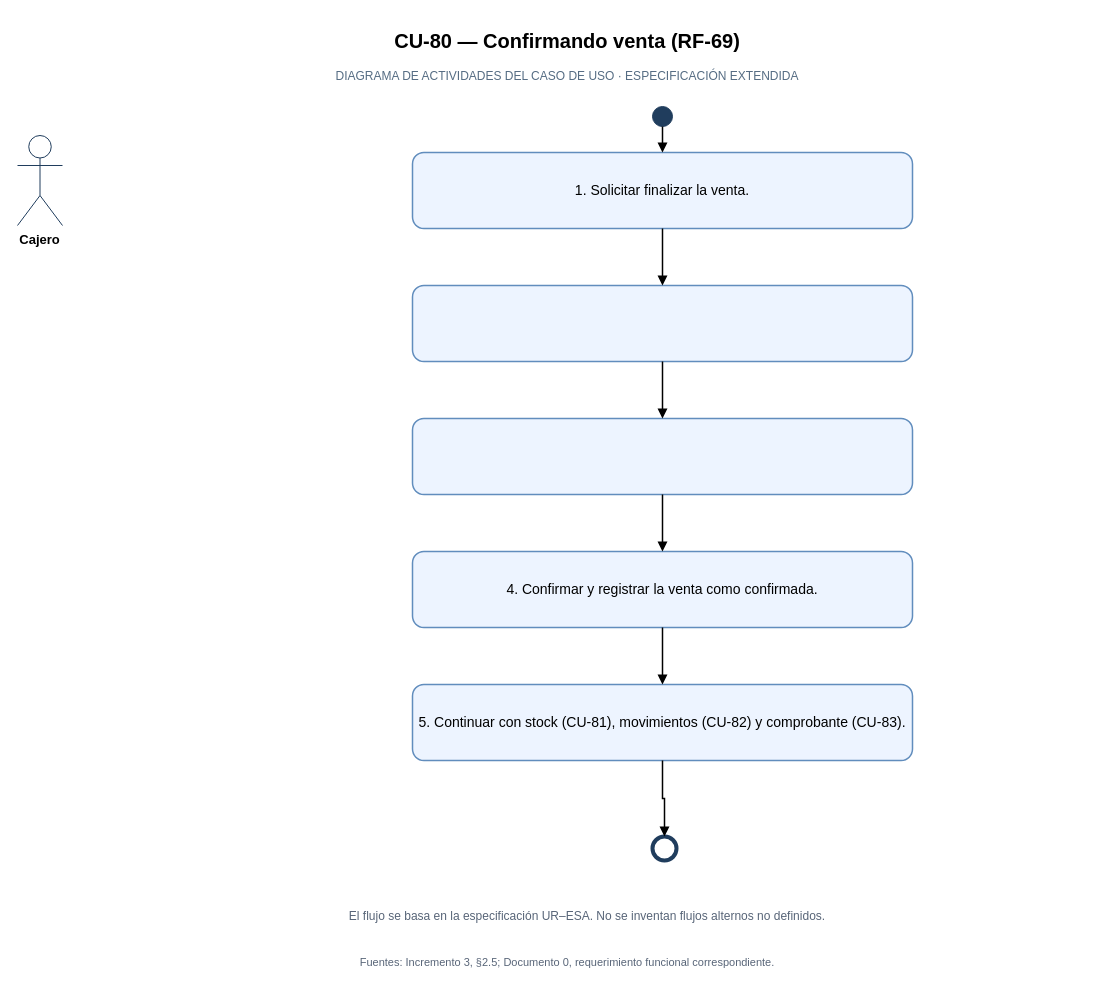
This 1105x991 diagram has some shape labels left out. The shapes that lost their labels are listed below. From the top down, each one's centre as x and y in pixels, then its label:
point 662,323: 2. Verificar producto válido, stock suficiente y pago válido.
point 662,456: 3. Solicitar la confirmación explícita del Cajero.
